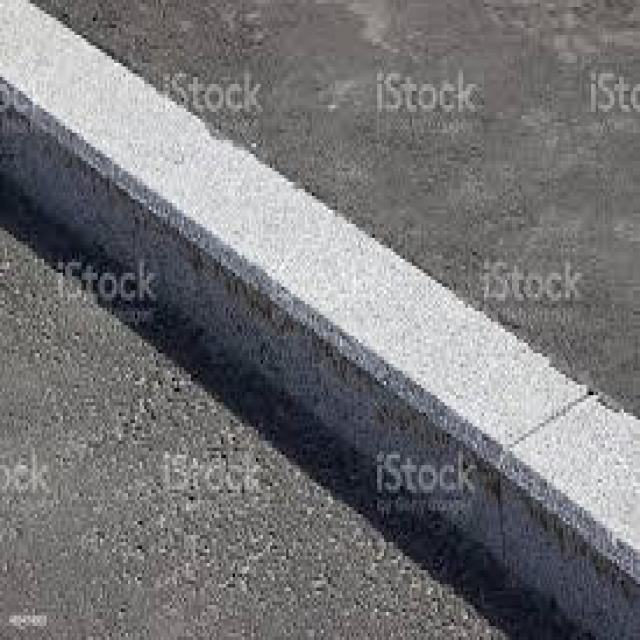curb: (335, 231, 640, 636), (148, 110, 320, 395), (1, 2, 164, 262)
